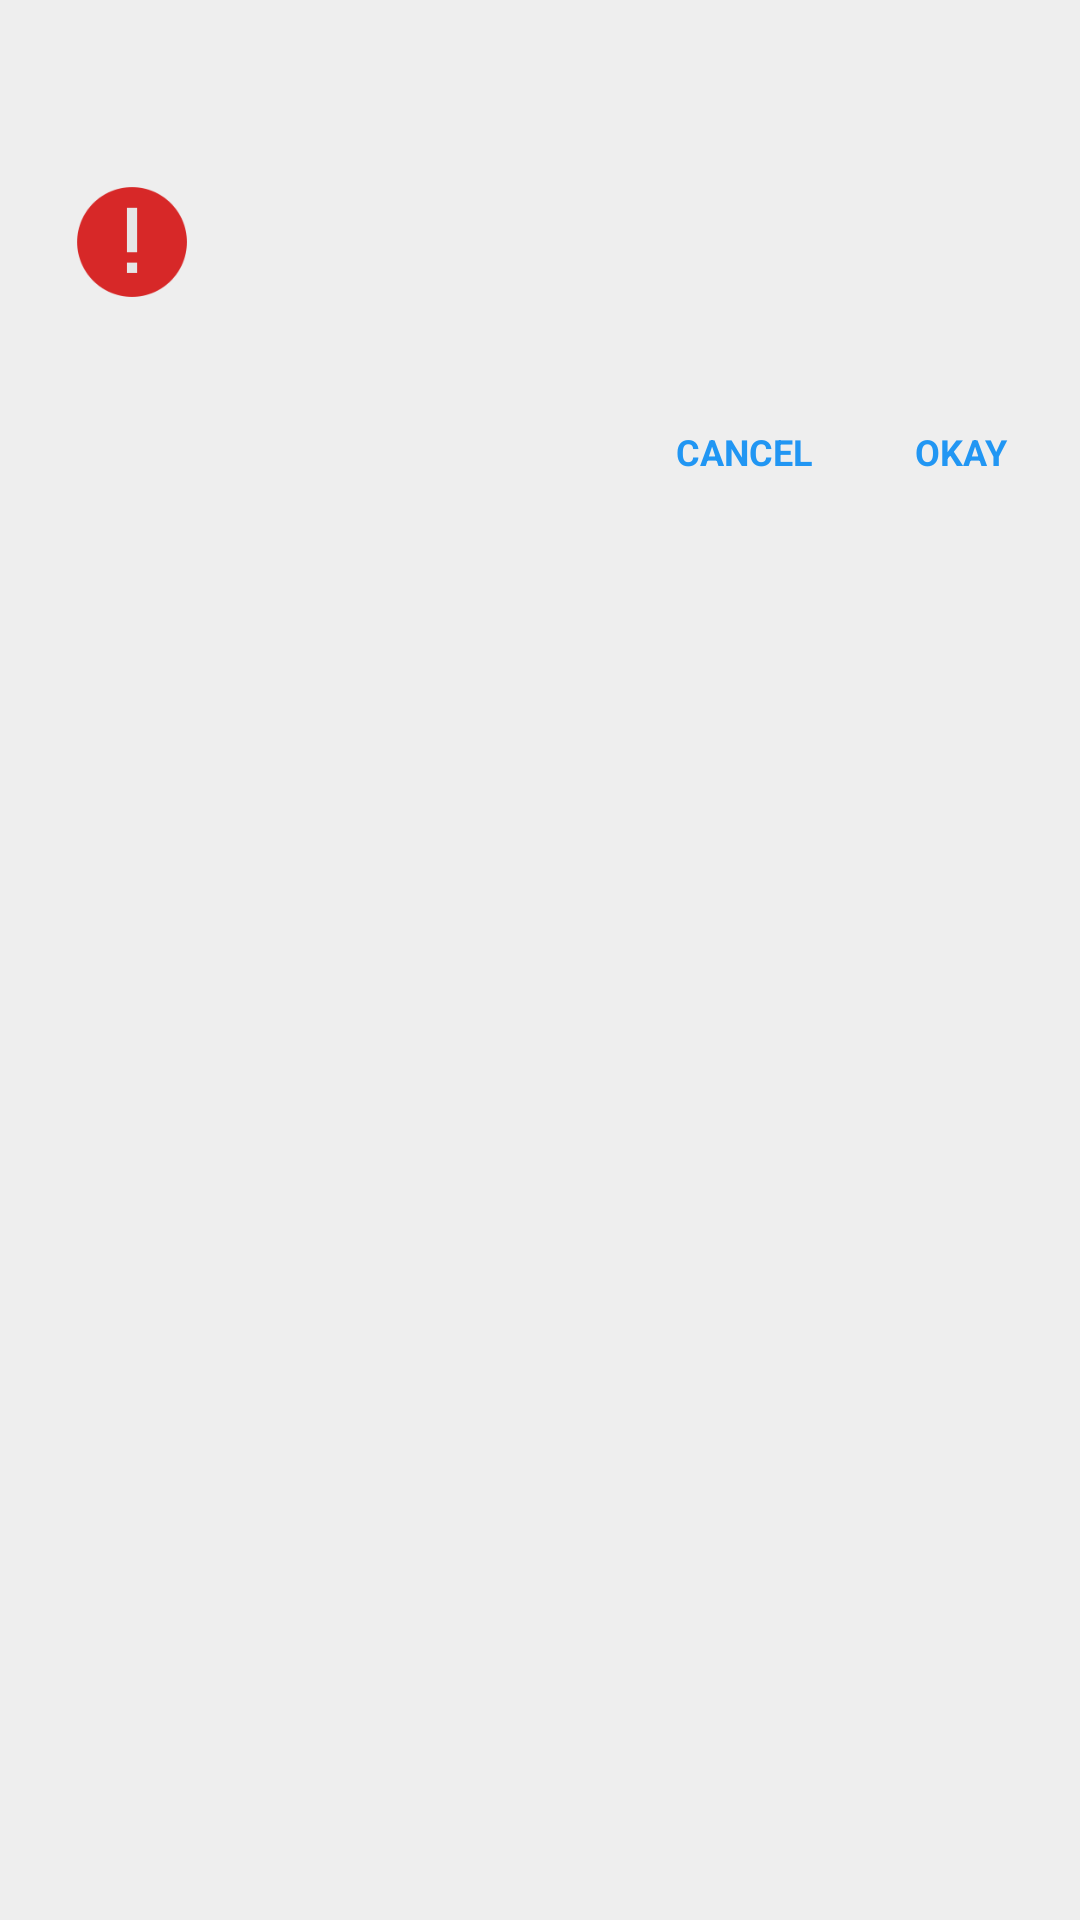

Icon click points for this 1080w x 1920h phone screenshot, format point (x, y):
error: point (132, 242)
